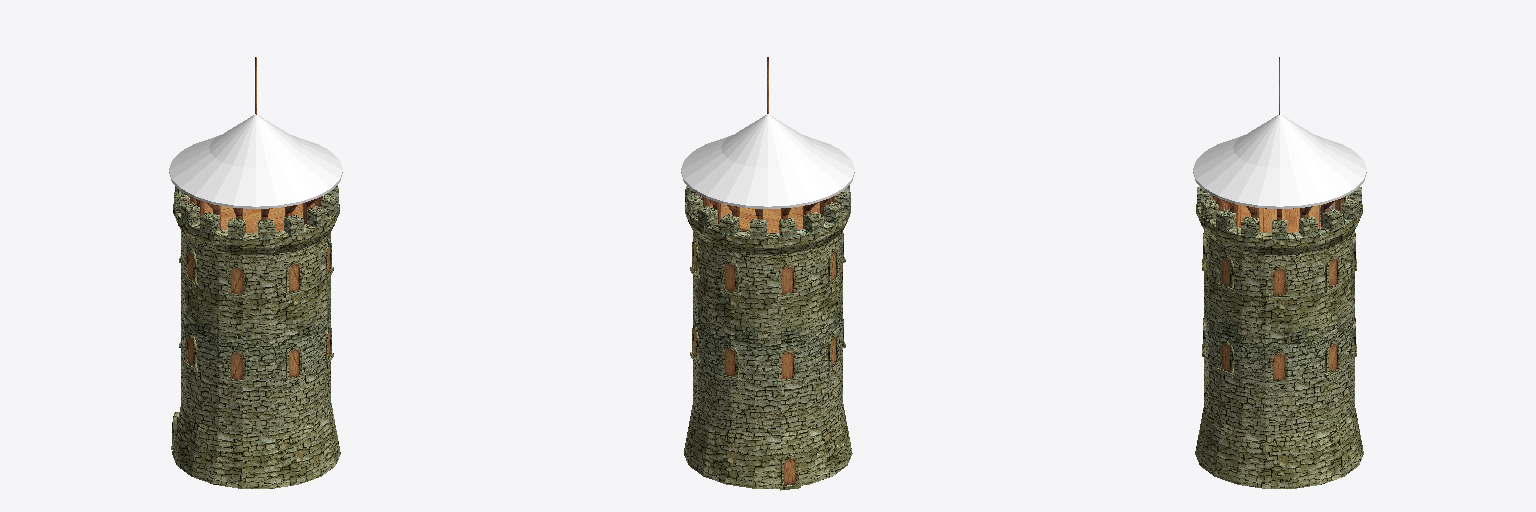
The picture shows the model from 3 angles: view 1: azimuth 30°, elevation 25°; view 2: azimuth 150°, elevation 25°; view 3: azimuth 270°, elevation 25°; orthographic projection.
Visible parts, largest first — view 1: Tube16, Cylinder07, Tube15, Cylinder48; view 2: Tube16, Cylinder07, Tube15, Cylinder48; view 3: Tube16, Cylinder07, Tube15, Cylinder48.
Part boxes in pixels (x1,y1,x2,y2): Tube16: (172,231,340,488); Cylinder07: (169,114,342,208); Tube15: (173,195,339,254); Cylinder48: (205,202,314,232); Tube16: (684,232,852,488); Cylinder07: (681,114,854,208); Tube15: (685,196,850,254); Cylinder48: (710,202,819,232); Tube16: (1195,231,1363,488); Cylinder07: (1193,114,1366,208); Tube15: (1196,196,1362,254); Cylinder48: (1224,202,1334,232).
Size of the model in its own units: 89.84 by 226 by 89.84.
Materials: 4 (3 with a texture image).